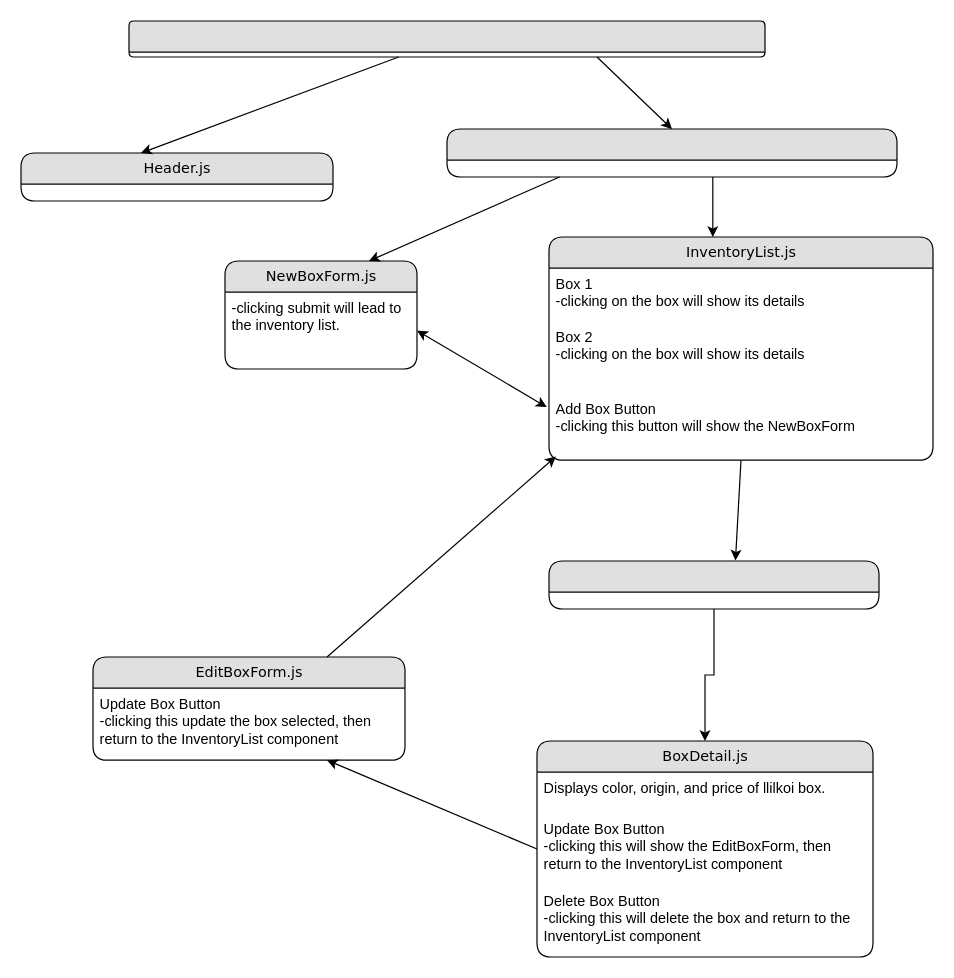
The diagram is 954 pixels wide and 978 high, and some of its shapes have lost their labels. The centre of each missing label's shape, as x and y in pixels:
App.js: pixel 446 38
Box.js: pixel 713 584
InventoryControl.js: pixel 671 152
